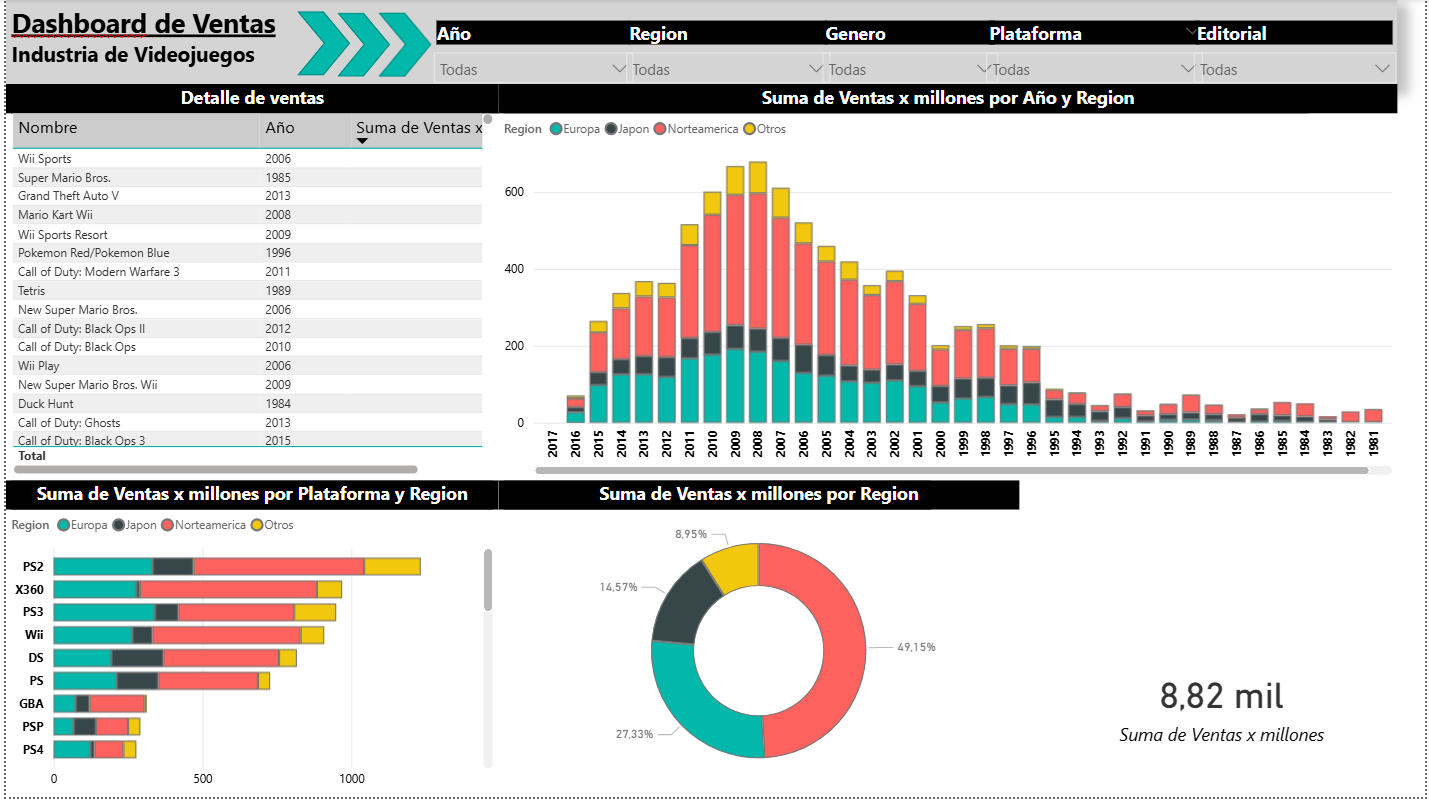

Layout of this report page (visuals, bound fields, positions):
{"tool":"powerbi","page":{"name":"Página 1","canvas":[1280,720],"ordinal":0},"visuals":[{"type":"textbox","box":[0,0,1254.6,77],"z":0},{"type":"tableEx","title":"Detalle de ventas","fields":{"Values":["Ventas Videojuegos.Nombre","Ventas Videojuegos.Año","Sum(Ventas Videojuegos.Valor)"]},"box":[0,77,443.9,357.1],"z":1000},{"type":"columnChart","fields":{"Category":["Ventas Videojuegos.Año"],"Y":["Sum(Ventas Videojuegos.Ventas x millones)"],"Series":["Ventas Videojuegos.Region"]},"box":[443.9,77,810.7,357.1],"z":2000},{"type":"donutChart","fields":{"Category":["Ventas Videojuegos.Region"],"Y":["Sum(Ventas Videojuegos.Ventas x millones)"]},"box":[443.9,434.1,469.6,286.1],"z":3000},{"type":"barChart","fields":{"Category":["Ventas Videojuegos.Plataforma"],"Y":["Sum(Ventas Videojuegos.Ventas x millones)"],"Series":["Ventas Videojuegos.Region"]},"box":[0,434.1,443.9,286.1],"z":4000},{"type":"card","fields":{"Values":["Sum(Ventas Videojuegos.Ventas x millones)"]},"box":[913.5,552.7,366.8,167.5],"z":5000},{"type":"slicer","fields":{"Values":["Ventas Videojuegos.Año"]},"box":[375.4,14.7,200.5,62.4],"z":6000},{"type":"slicer","fields":{"Values":["Ventas Videojuegos.Region"]},"box":[549.1,14.7,204.2,62.4],"z":7000},{"type":"slicer","fields":{"Values":["Ventas Videojuegos.Genero"]},"box":[726.4,14.7,178.5,62.4],"z":8000},{"type":"slicer","fields":{"Values":["Ventas Videojuegos.Plataforma"]},"box":[873.1,14.7,215.2,62.4],"z":9000},{"type":"slicer","fields":{"Values":["Ventas Videojuegos.Editorial"]},"box":[1060.2,14.7,203,62.4],"z":10000},{"type":"textbox","box":[100,100,300,300],"z":11000},{"type":"textbox","box":[100,100,300,300],"z":12000},{"type":"textbox","box":[100,100,300,300],"z":13000},{"type":"textbox","box":[100,100,300,300],"z":14000},{"type":"shape","box":[262.9,11,47.7,57.5],"z":15000},{"type":"shape","box":[298.4,12.2,47.7,57.5],"z":16000},{"type":"shape","box":[336.3,12.2,47.7,57.5],"z":17000}]}

Visuals, with their boxes in screenshot pixels (x1, y1, x2, y2), scaled from the page's 1280x720 canvas onto the 1429x807 screenshot:
textbox: locate(0, 0, 1401, 86)
"Detalle de ventas" tableEx: locate(0, 86, 496, 487)
columnChart - Ventas Videojuegos.Año x Sum(Ventas Videojuegos.Ventas x millones): locate(496, 86, 1401, 487)
donutChart - Ventas Videojuegos.Region x Sum(Ventas Videojuegos.Ventas x millones): locate(496, 487, 1020, 806)
barChart - Ventas Videojuegos.Plataforma x Sum(Ventas Videojuegos.Ventas x millones): locate(0, 487, 496, 806)
card - Sum(Ventas Videojuegos.Ventas x millones): locate(1020, 619, 1428, 806)
slicer - Ventas Videojuegos.Año: locate(419, 16, 643, 86)
slicer - Ventas Videojuegos.Region: locate(613, 16, 841, 86)
slicer - Ventas Videojuegos.Genero: locate(811, 16, 1010, 86)
slicer - Ventas Videojuegos.Plataforma: locate(975, 16, 1215, 86)
slicer - Ventas Videojuegos.Editorial: locate(1184, 16, 1410, 86)
textbox: locate(112, 112, 447, 448)
textbox: locate(112, 112, 447, 448)
textbox: locate(112, 112, 447, 448)
textbox: locate(112, 112, 447, 448)
shape: locate(294, 12, 347, 77)
shape: locate(333, 14, 386, 78)
shape: locate(375, 14, 429, 78)
